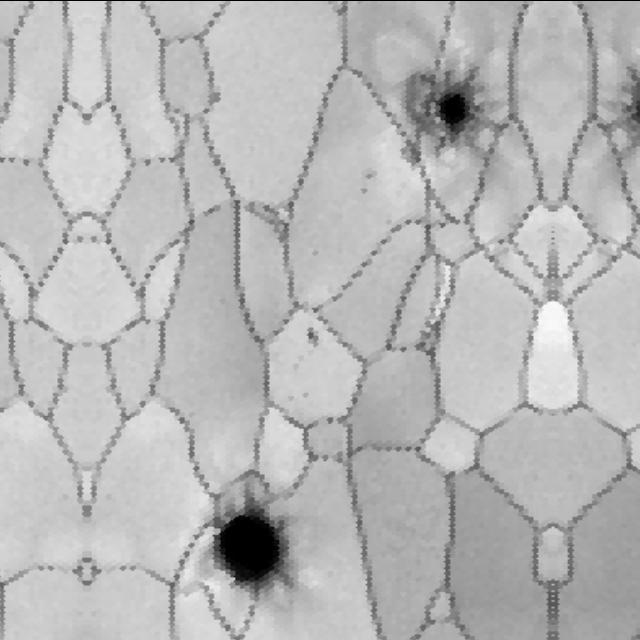good_void: (191, 464, 312, 612), (387, 63, 514, 179), (599, 70, 640, 174), (302, 323, 324, 347), (288, 350, 309, 373), (329, 0, 353, 16), (86, 230, 104, 247), (71, 230, 87, 246), (309, 246, 323, 258), (365, 168, 379, 179), (301, 388, 313, 400), (360, 186, 371, 196), (287, 392, 297, 402)
